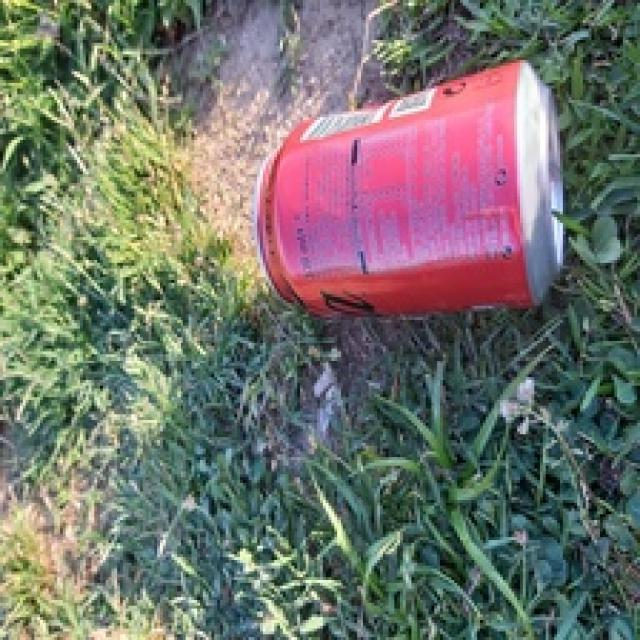recyclable: (254, 58, 566, 320)
